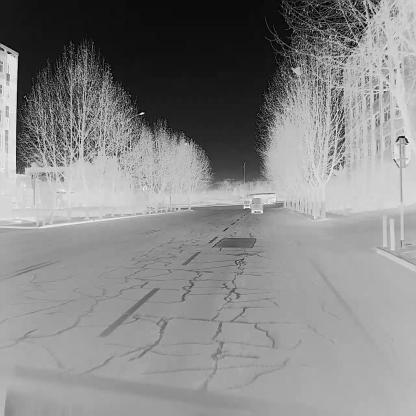car: (246, 191, 277, 205), (251, 196, 264, 213), (243, 199, 251, 209)
